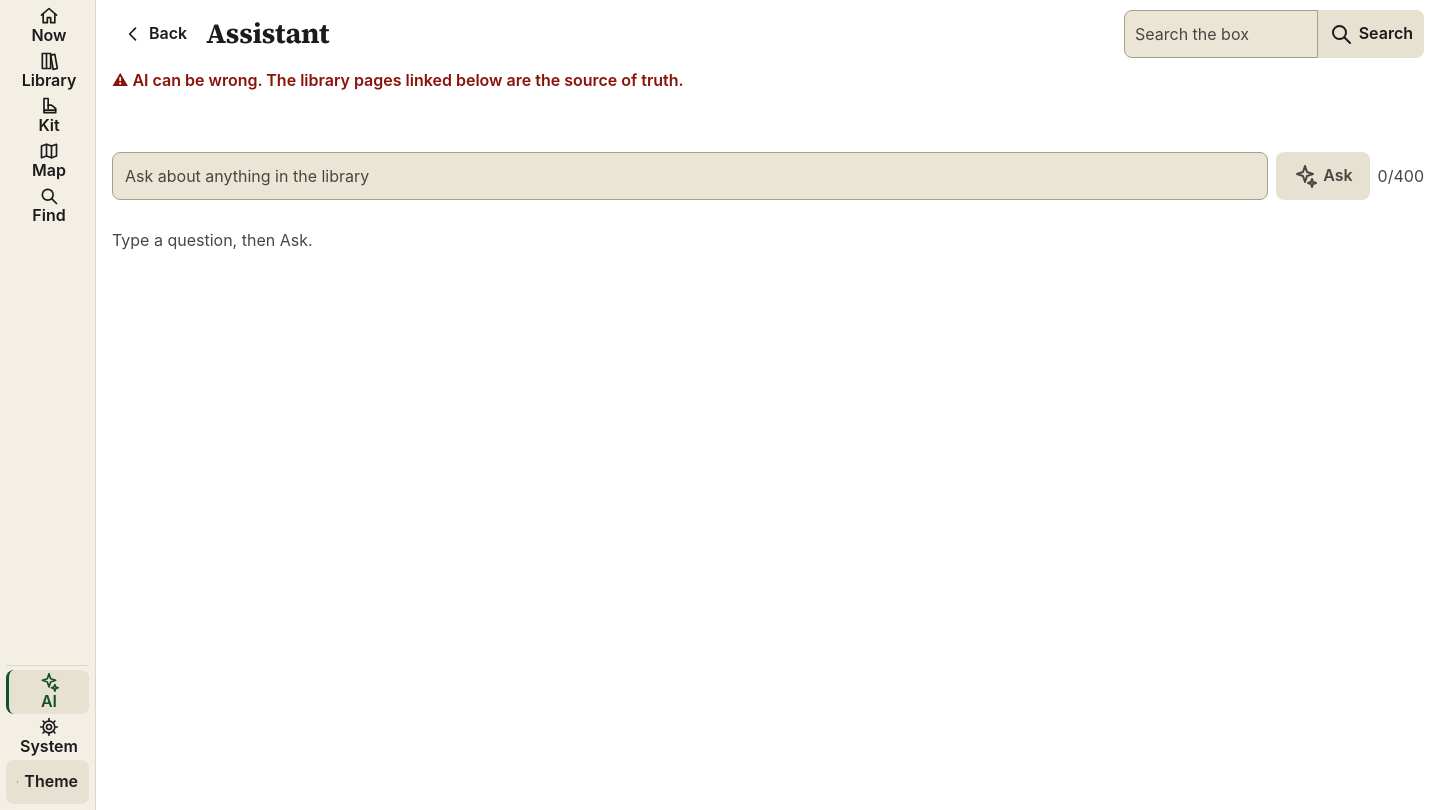
Scenario: Ai screen › shows the not-backed notice and lists the passages when grounded is false
The image size is (1440, 810).
In the field named "Your question": (690, 176) [112, 152, 1268, 200], type "x"
Then press Enter
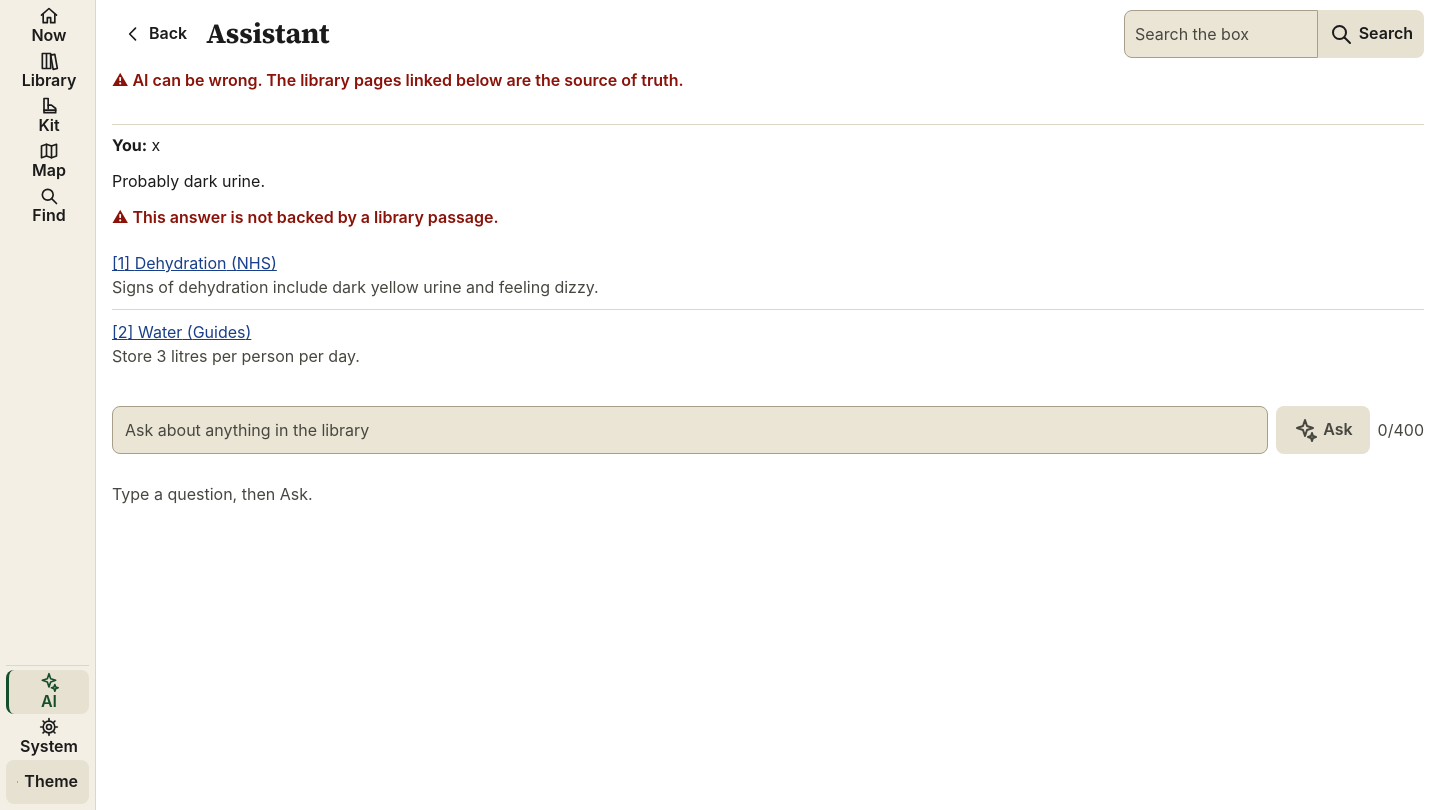
Now the text "This answer is not backed by a library passage." is shown, box [132, 207, 498, 227]
Now the number of list items is 2, box [112, 241, 1424, 310]; [112, 322, 360, 366]
Now the text "Store 3 litres per person per day." is shown, box [112, 346, 360, 366]
